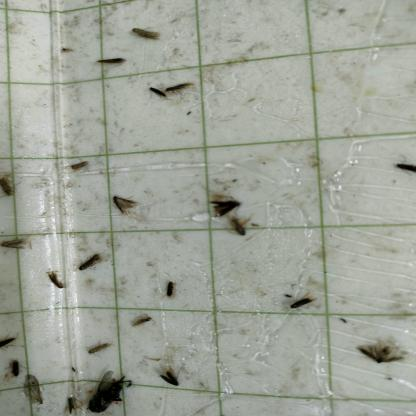prays_oleae: (86, 356, 139, 414), (356, 326, 401, 374), (0, 221, 30, 282), (283, 294, 317, 320), (226, 211, 250, 246), (0, 162, 20, 202), (206, 193, 240, 215), (5, 353, 28, 385), (127, 22, 160, 43), (76, 250, 106, 270), (46, 271, 70, 294), (392, 157, 416, 180), (159, 278, 179, 305), (110, 194, 134, 216), (158, 365, 180, 386), (0, 328, 18, 352), (69, 160, 94, 177), (97, 54, 129, 67), (148, 82, 165, 106), (165, 83, 198, 93), (130, 315, 152, 327), (85, 345, 113, 353)
